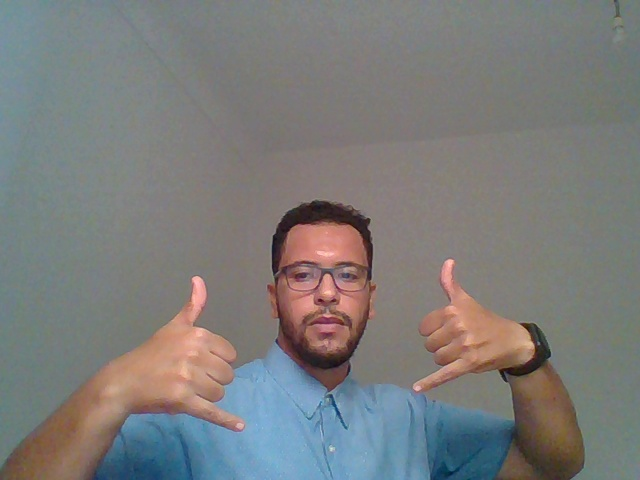callme: (72, 233, 248, 455), (387, 242, 551, 456)
